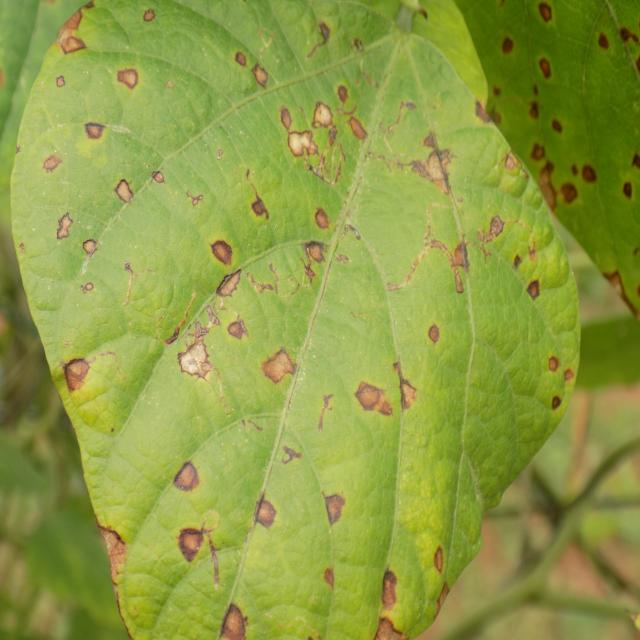Dolicos bean_cercospora leaf spot: (10, 0, 581, 640)
